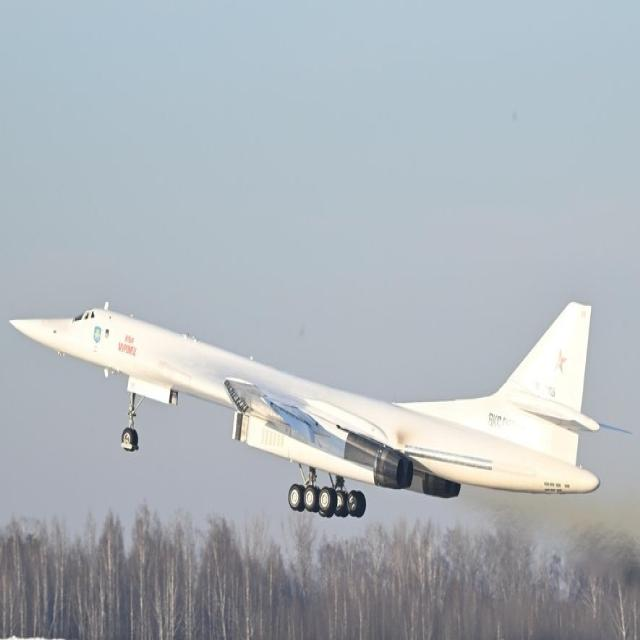Tu160: (0, 154, 609, 637)
